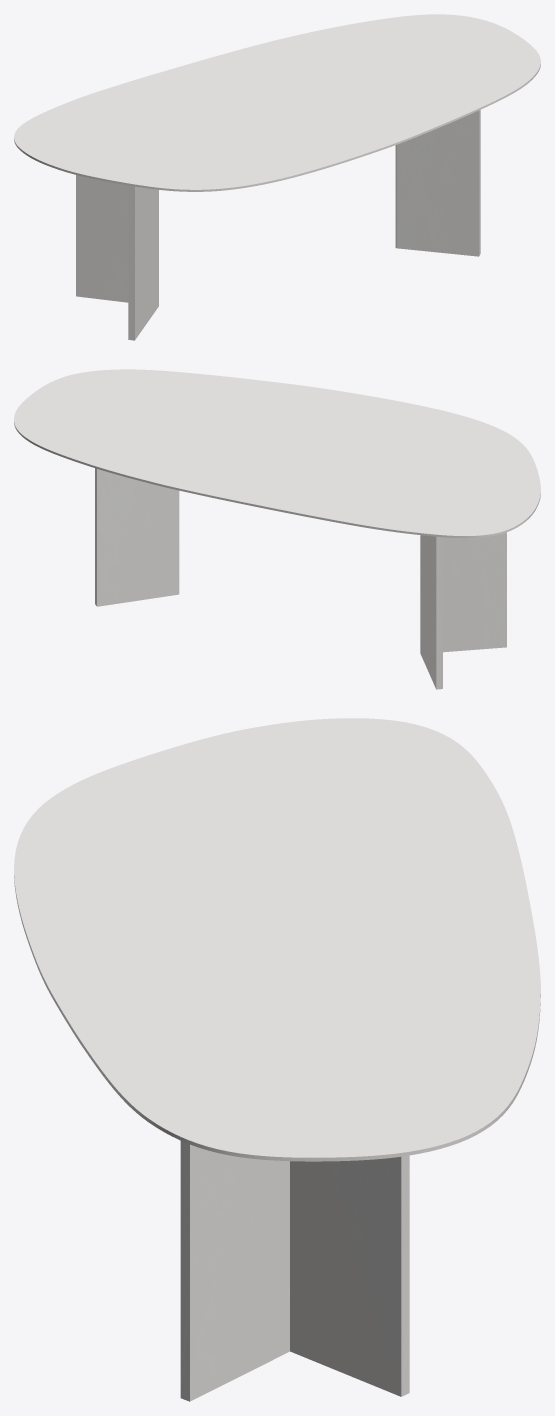
Rendered from purewhite_leaf2_facet_valleyv.glb.
3 renders of one model, top to bottom at view 1: azimuth 30°, elevation 25°; view 2: azimuth 150°, elevation 25°; view 3: azimuth 270°, elevation 25°, orthographic. The views are drawn at different scales.
Visible parts, largest first — view 1: facet_leaf2, valleyv; view 2: facet_leaf2, valleyv; view 3: facet_leaf2, valleyv.
Boxes of the visible parts, x1,y1,x2,y2 form: facet_leaf2: (14,14,540,191); valleyv: (76,110,480,340); facet_leaf2: (14,369,540,538); valleyv: (95,468,506,689); facet_leaf2: (14,718,540,1161); valleyv: (180,1141,409,1401).
Bounding box in the file's own units: 7.5 × 2.49 × 3.8.
1 material, 1 textured.
